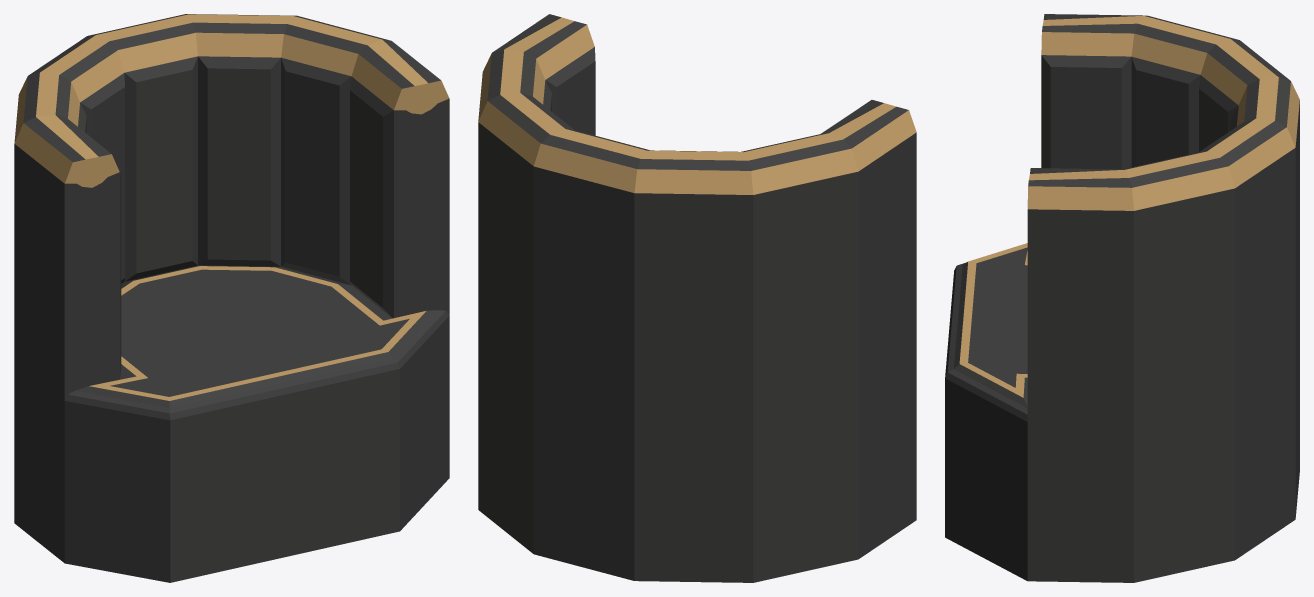
Rendered from Chair.fbx.
3 renders of one model, left to right at view 1: azimuth 30°, elevation 25°; view 2: azimuth 150°, elevation 25°; view 3: azimuth 270°, elevation 25°, orthographic. The views are drawn at different scales.
Parts seen in each view (by area): view 1: Chair; view 2: Chair; view 3: Chair.
Boxes of the visible parts, x1,y1,x2,y2 form: Chair: [14, 14, 449, 582]; Chair: [478, 14, 916, 582]; Chair: [945, 14, 1299, 582].
Size of the model in its own units: 92.8 by 94.53 by 76.74.
